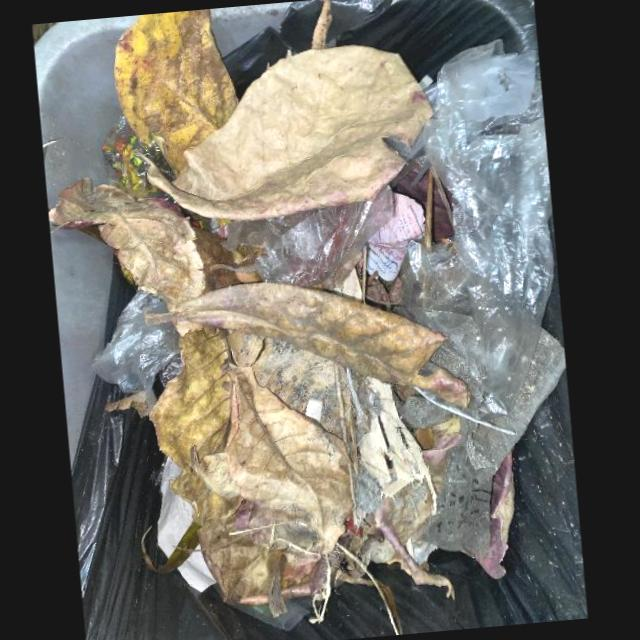giay: (366, 192, 425, 248)
la_cay: (142, 45, 434, 220), (150, 328, 317, 605), (144, 283, 470, 410), (225, 362, 355, 565), (114, 9, 238, 178), (49, 178, 203, 305)
tui_ni_long: (390, 38, 555, 420)
